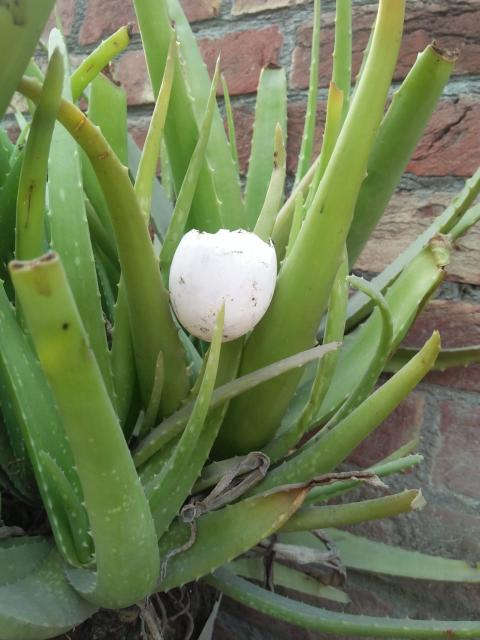Roto: (168, 227, 278, 343)
